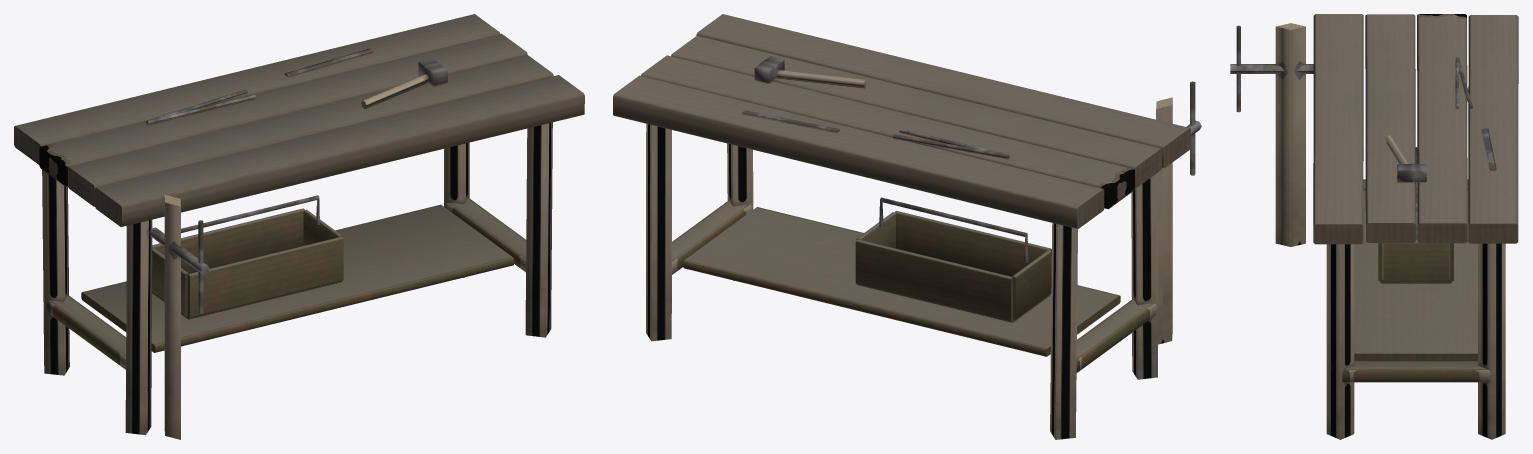
File: SM_Camp_Workbench.fbx
3 renders of one model, left to right at view 1: azimuth 30°, elevation 25°; view 2: azimuth 150°, elevation 25°; view 3: azimuth 270°, elevation 25°, orthographic. The views are drawn at different scales.
Parts seen in each view (by area): view 1: SM_Camp_Workbench; view 2: SM_Camp_Workbench; view 3: SM_Camp_Workbench.
Part boxes in pixels (x1=…): SM_Camp_Workbench: x1=14, y1=14, x2=584, y2=439; SM_Camp_Workbench: x1=613, y1=14, x2=1201, y2=439; SM_Camp_Workbench: x1=1230, y1=14, x2=1518, y2=439.
Bounding box in the file's own units: 181 × 105 × 95.05.
